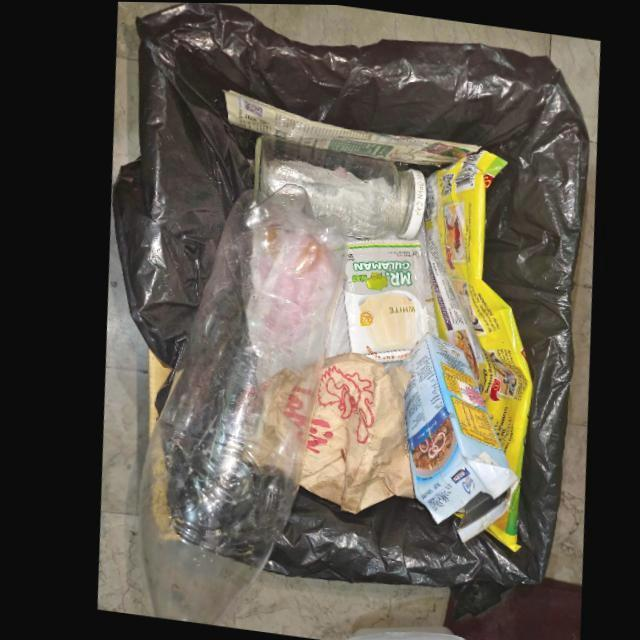food_wrapper: (420, 148, 525, 549), (221, 89, 478, 165)
glass_bottle: (250, 135, 422, 238)
paper: (290, 350, 405, 512)
plastic_bottle: (130, 182, 342, 624)
plastic_sachet: (337, 238, 422, 361)
